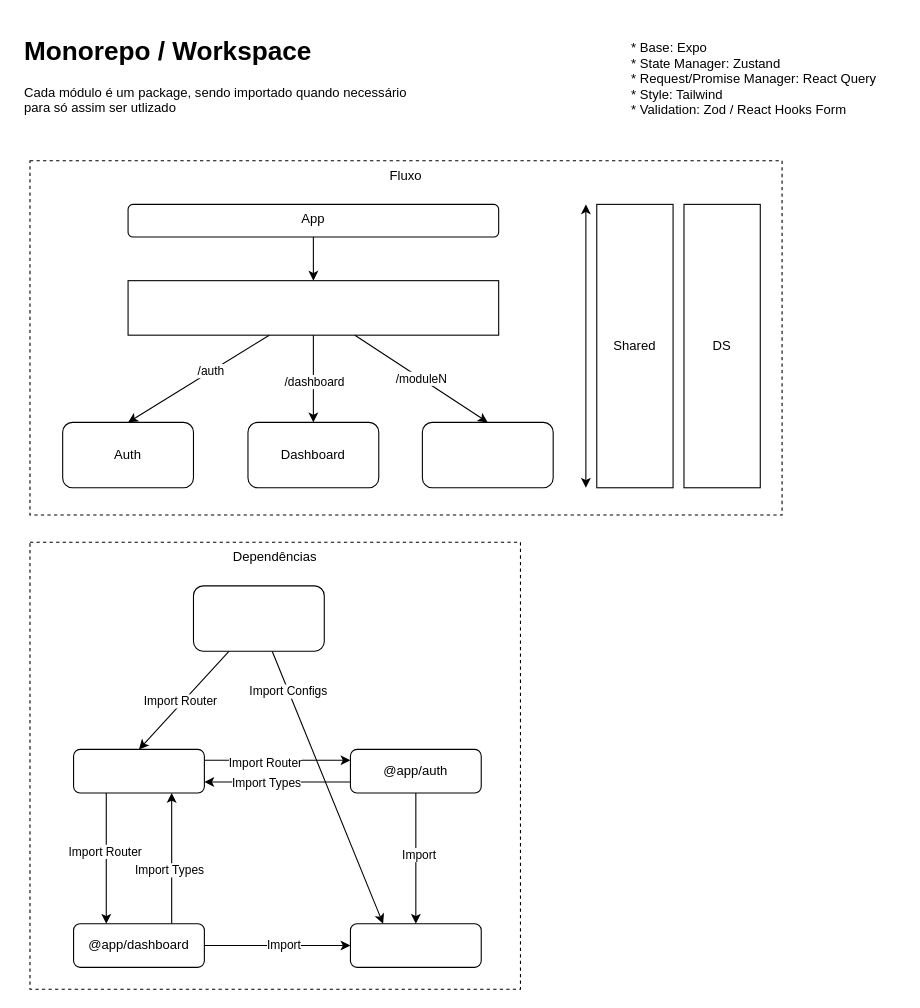
Some shapes in this 920 by 1008 pixel diagram are drawn without their labels. Here are the shapes that lost their labels. From the top down, the centre of each, then its label:
point (313, 307): Router
point (487, 454): Module N
point (258, 618): Root/App deps nativas
point (138, 770): @app/router
point (415, 945): @app/shared
